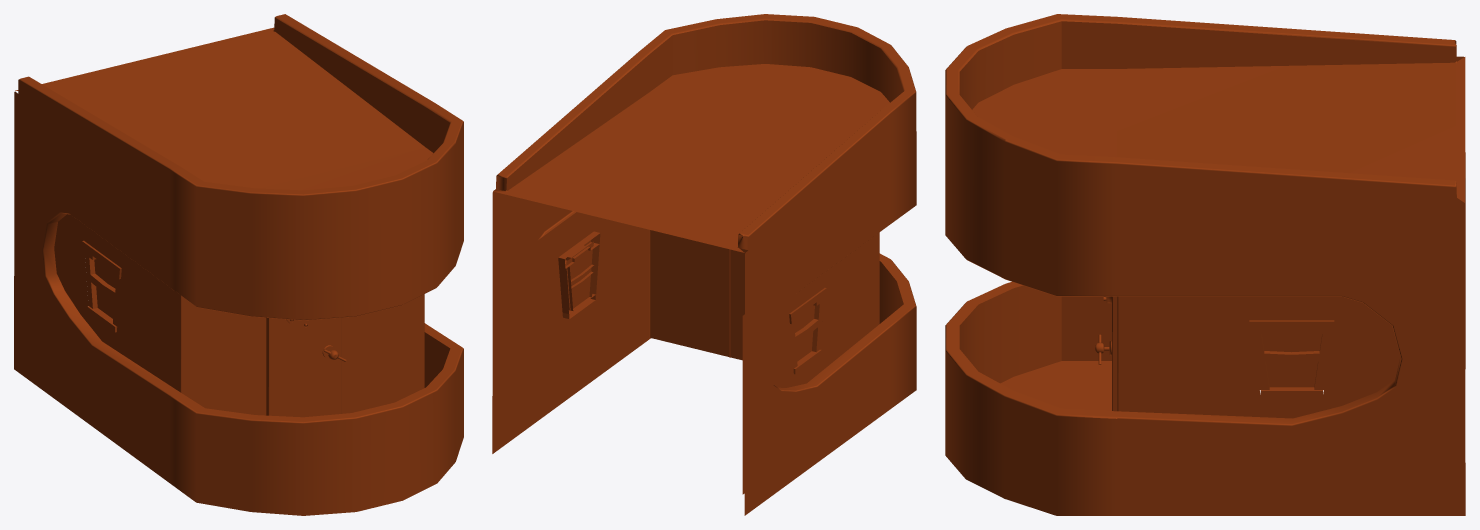
3 renders of one model, left to right at view 1: azimuth 30°, elevation 25°; view 2: azimuth 150°, elevation 25°; view 3: azimuth 270°, elevation 25°, orthographic. The views are drawn at different scales.
Parts seen in each view (by area): view 1: Object511; view 2: Object511; view 3: Object511.
Boxes of the visible parts, left/top/right/bottom form: Object511: left=14, top=14, right=463, bottom=515; Object511: left=492, top=14, right=916, bottom=515; Object511: left=945, top=14, right=1465, bottom=515.
Bounding box in the file's own units: 400 × 460 × 600.
